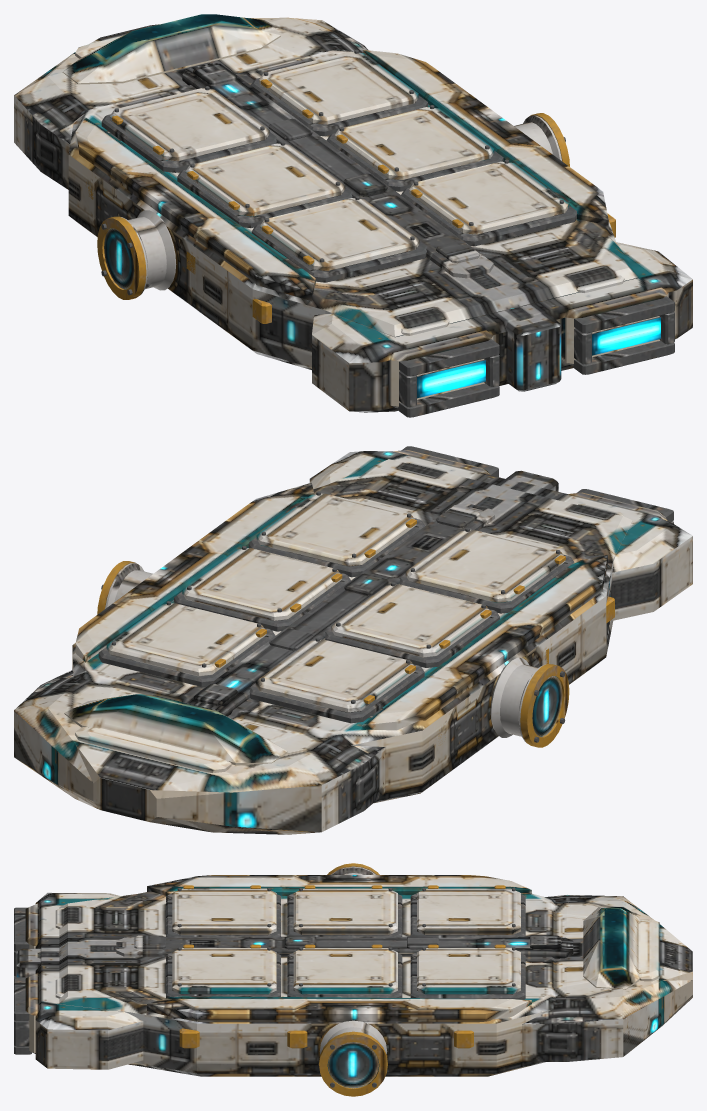
The model's file is clean-slate.glb.
The picture shows the model from 3 angles, top to bottom: view 1: azimuth 30°, elevation 25°; view 2: azimuth 150°, elevation 25°; view 3: azimuth 270°, elevation 25°; orthographic projection. The views are drawn at different scales.
Visible parts, largest first — view 1: hull / Clean Slate / painted hull and fittings, hull / Ventral / Clean Slate; view 2: hull / Clean Slate / painted hull and fittings, hull / Ventral / Clean Slate; view 3: hull / Clean Slate / painted hull and fittings, hull / Ventral / Clean Slate.
Boxes of the visible parts, x1,y1,x2,y2 form: hull / Clean Slate / painted hull and fittings: (14,14,692,417); hull / Ventral / Clean Slate: (76,80,675,412); hull / Clean Slate / painted hull and fittings: (14,446,692,832); hull / Ventral / Clean Slate: (17,523,600,834); hull / Clean Slate / painted hull and fittings: (14,863,692,1096); hull / Ventral / Clean Slate: (32,932,689,1076).
Size of the model in its own units: 11.91 by 2.91 by 19.74.
Materials: 2 (2 with a texture image).
